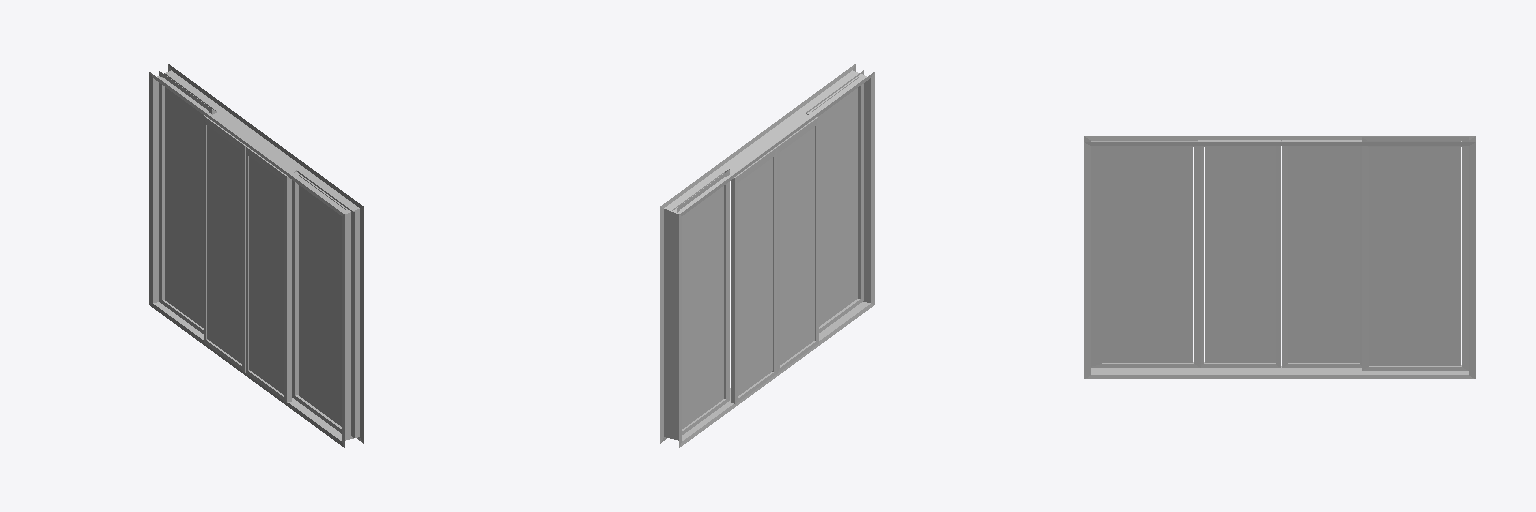
The model's file is Buildings03_Glass door.obj.
The picture shows the model from 3 angles: view 1: azimuth 30°, elevation 25°; view 2: azimuth 150°, elevation 25°; view 3: azimuth 270°, elevation 25°; orthographic projection.
Parts seen in each view (by area): view 1: Cube.000_Cube.004, Cube.003_Cube.009; view 2: Cube.000_Cube.004, Cube.003_Cube.009; view 3: Cube.000_Cube.004, Cube.003_Cube.009.
Part boxes in pixels (bbox=[...]): Cube.000_Cube.004: bbox=[149, 64, 363, 447]; Cube.003_Cube.009: bbox=[204, 114, 291, 402]; Cube.000_Cube.004: bbox=[660, 64, 874, 447]; Cube.003_Cube.009: bbox=[731, 117, 818, 404]; Cube.000_Cube.004: bbox=[1084, 136, 1475, 378]; Cube.003_Cube.009: bbox=[1198, 140, 1361, 367].
Bounding box in the file's own units: 0.2647 × 3.01 × 4.5.